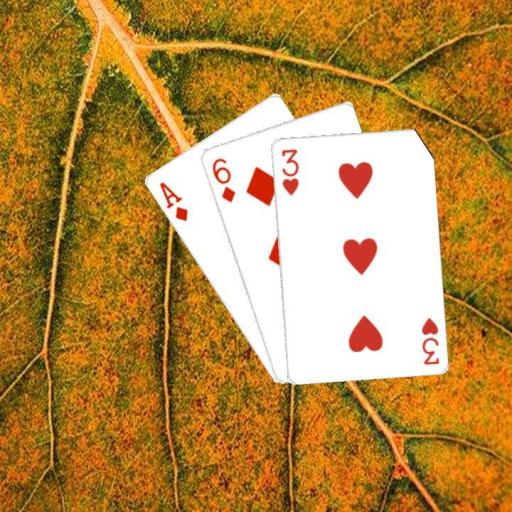3H: (417, 315, 441, 366), (278, 145, 300, 196)
6D: (208, 154, 237, 204)
AD: (156, 179, 189, 223)
